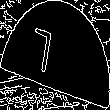L_S: (42, 26, 68, 84)
